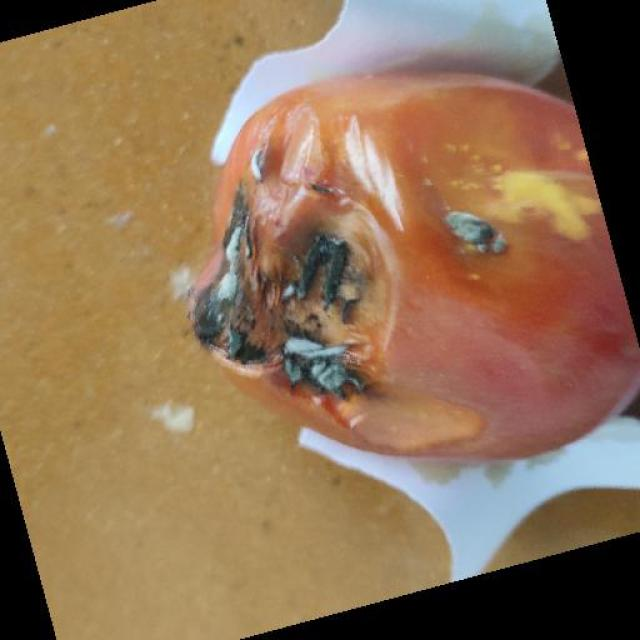Stale_tomato: (189, 94, 640, 458)
